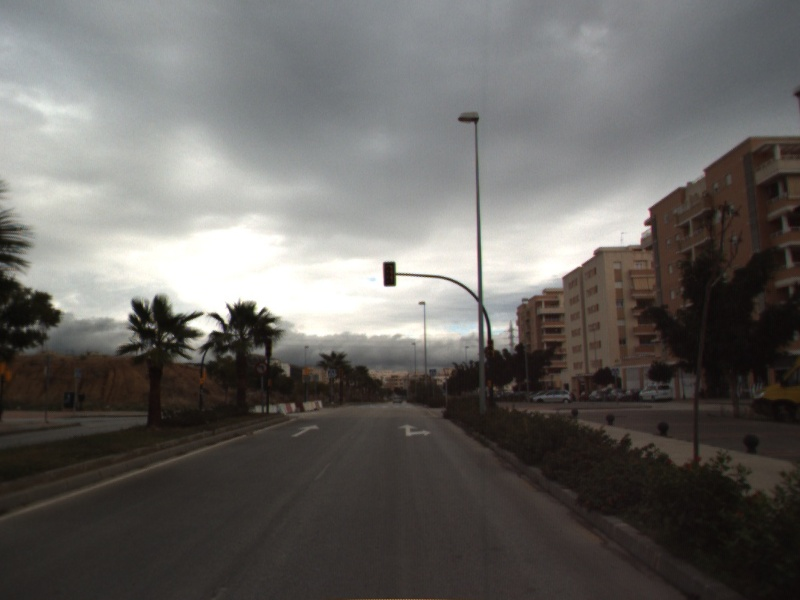STRAIGHT: (289, 422, 322, 439)
STRAIGHT_RIGHT: (396, 422, 433, 438)
